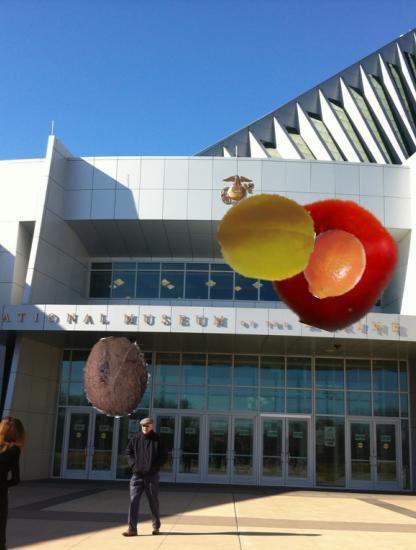Cocos: (76, 336, 158, 418)
Nectarine: (265, 197, 398, 330)
Peach: (217, 188, 315, 286)
Tangelo: (297, 229, 370, 302)
